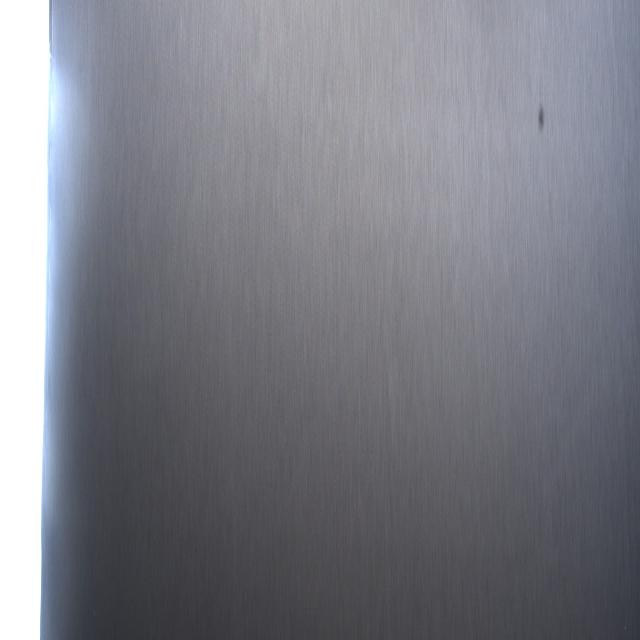crease: (381, 336, 395, 468)
